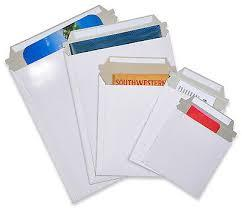Cardboard: (2, 5, 242, 208)
